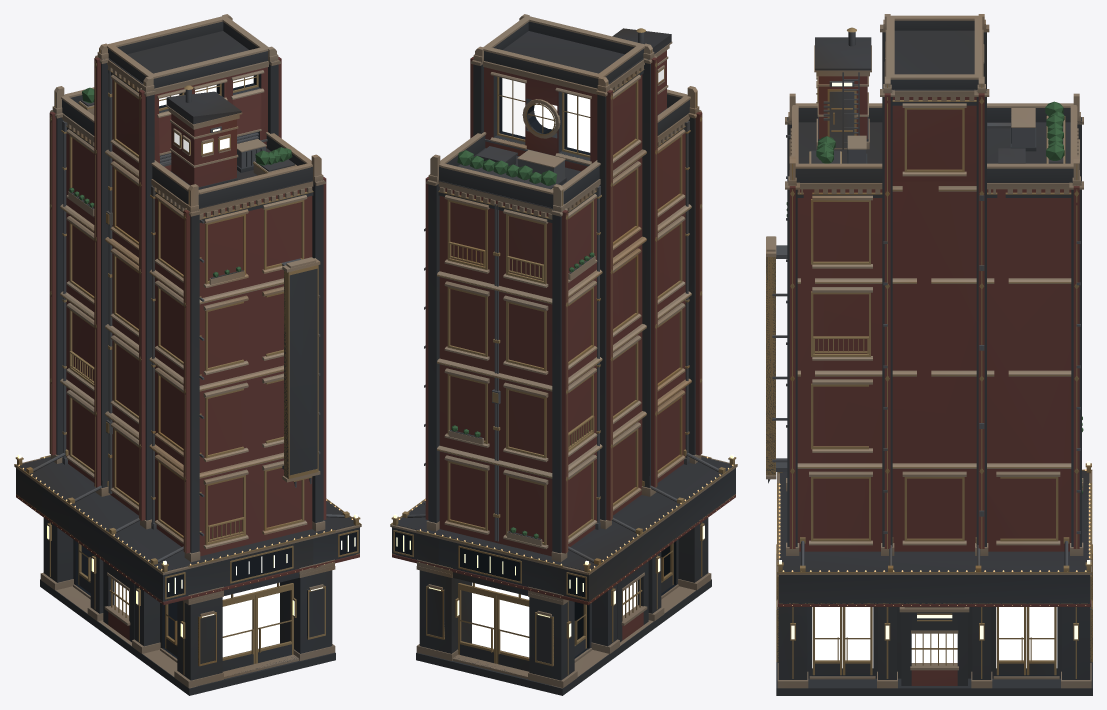
The model's file is cinema221.glb.
3 renders of one model, left to right at view 1: azimuth 30°, elevation 25°; view 2: azimuth 150°, elevation 25°; view 3: azimuth 270°, elevation 25°, orthographic. The views are drawn at different scales.
Parts seen in each view (by area): view 1: c221-wall, c221-wall2, c221-trim, c221-frame, c221-roof, c221-steel, c221-shop, c221-dark, c221-leaf, c221-lamp, c221-room1; view 2: c221-wall, c221-wall2, c221-trim, c221-frame, c221-roof, c221-steel, c221-dark, c221-shop, c221-room2, c221-leaf, c221-room1, c221-lamp; view 3: c221-wall, c221-wall2, c221-trim, c221-frame, c221-roof, c221-shop, c221-steel, c221-leaf, c221-lamp.
Boxes of the visible parts, box(x1,y1,x2,y2) form: c221-wall: box(16, 56, 359, 640); c221-wall2: box(16, 21, 359, 695); c221-trim: box(14, 14, 361, 688); c221-frame: box(14, 50, 361, 674); c221-roof: box(17, 31, 354, 571); c221-steel: box(33, 70, 344, 562); c221-shop: box(114, 581, 279, 657); c221-dark: box(75, 75, 356, 658); c221-leaf: box(69, 87, 292, 277); c221-lamp: box(17, 128, 358, 637); c221-room1: box(159, 76, 253, 153); c221-wall: box(392, 50, 735, 640); c221-wall2: box(392, 21, 735, 695); c221-trim: box(390, 14, 737, 688); c221-frame: box(390, 28, 737, 674); c221-roof: box(397, 28, 734, 571); c221-steel: box(407, 32, 718, 562); c221-dark: box(395, 77, 676, 658); c221-shop: box(472, 581, 637, 657); c221-room2: box(534, 94, 590, 152); c221-leaf: box(451, 150, 594, 538); c221-room1: box(502, 78, 525, 136); c221-lamp: box(393, 454, 734, 637); c221-wall: box(778, 76, 1091, 685); c221-wall2: box(766, 20, 1092, 695); c221-trim: box(766, 14, 1092, 688); c221-frame: box(766, 27, 1092, 678); c221-roof: box(780, 30, 1089, 571); c221-shop: box(812, 607, 1057, 668); c221-steel: box(768, 32, 1080, 565); c221-leaf: box(786, 101, 1083, 493); c221-lamp: box(779, 82, 1090, 639).
Bounding box in the file's own units: 6.92 × 19.18 × 9.29.
